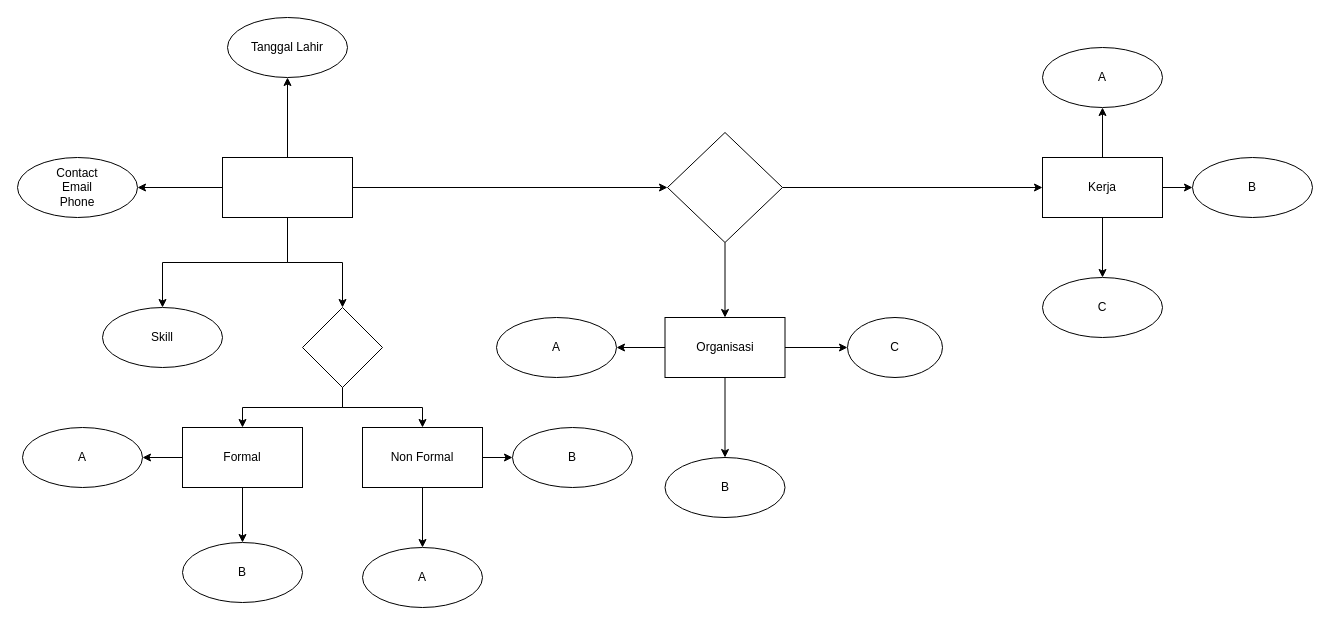
Image size: 1330x625. Some labels were removed from this diagram. The centre of each missing label's shape, as x and y in pixels:
"Data Diri" belongs at [287,187].
"Pendidikan" belongs at [342,347].
"Pengalaman" belongs at [724,187].
